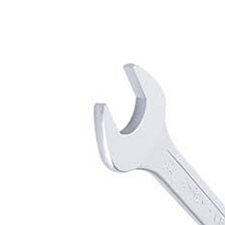wrench: (75, 35, 225, 225)
